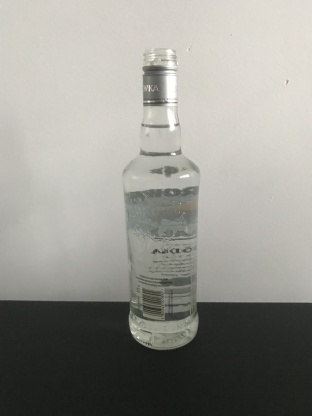nakretka: (140, 45, 179, 105)
